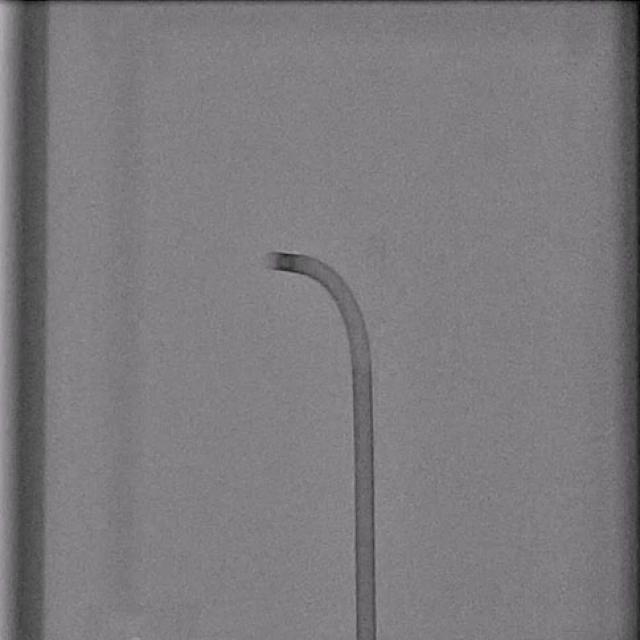bend: (351, 349, 374, 369)
entry: (357, 634, 375, 640)
marker: (278, 252, 296, 272)
tip: (266, 250, 273, 270)
